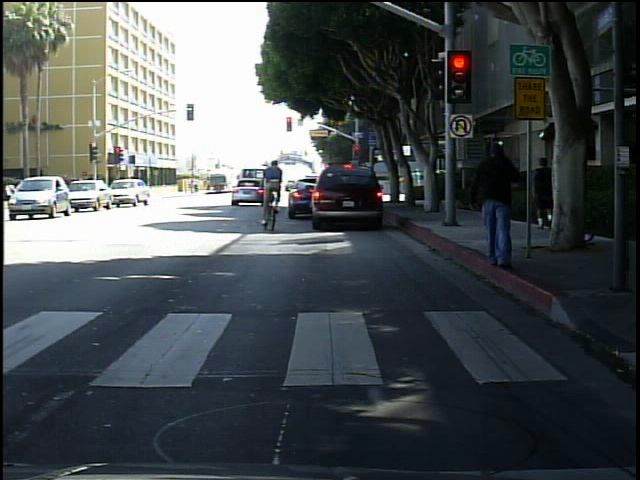person: (471, 135, 519, 273), (240, 148, 303, 223), (546, 138, 577, 244), (534, 149, 555, 236)
